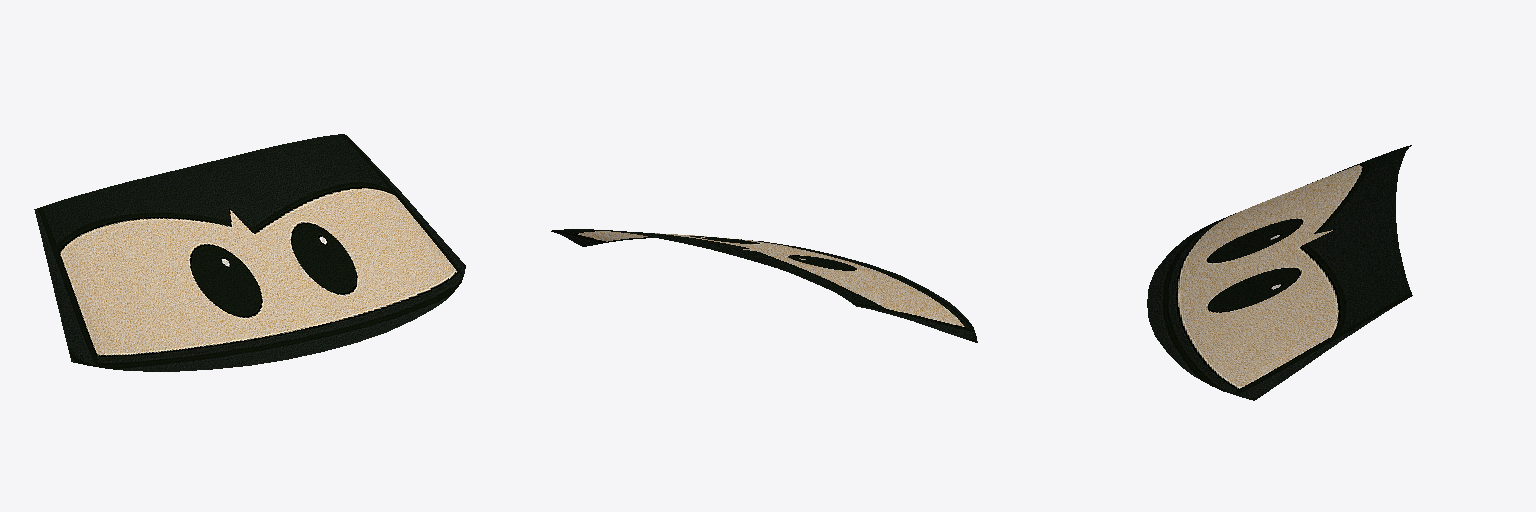
The picture shows the model from 3 angles: view 1: azimuth 30°, elevation 25°; view 2: azimuth 150°, elevation 25°; view 3: azimuth 270°, elevation 25°; orthographic projection.
Visible parts, largest first — view 1: Parabrisas; view 2: Parabrisas; view 3: Parabrisas.
Part boxes in pixels (x1,y1,x2,y2): Parabrisas: (34, 134, 465, 371); Parabrisas: (551, 229, 977, 342); Parabrisas: (1147, 145, 1412, 400).
Size of the model in its own units: 43.25 by 10.25 by 25.23.
Materials: 1 (1 with a texture image).